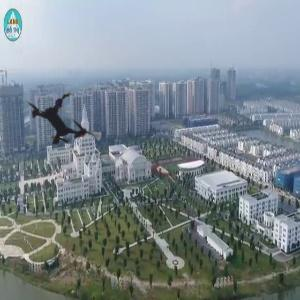drone: (1, 61, 124, 184)
